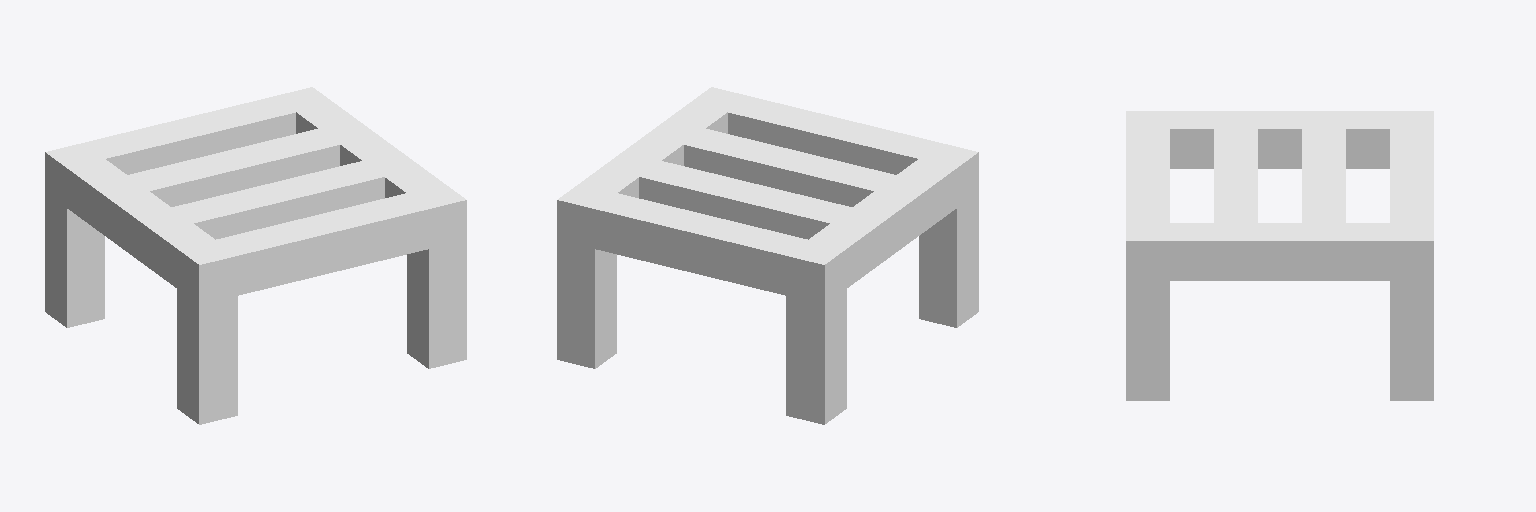
Rendered from Kitchen_cabinets-4.obj.
3 renders of one model, left to right at view 1: azimuth 30°, elevation 25°; view 2: azimuth 150°, elevation 25°; view 3: azimuth 270°, elevation 25°, orthographic.
Parts seen in each view (by area): view 1: object 1; view 2: object 1; view 3: object 1.
Part boxes in pixels (left/top/right/bottom): object 1: left=45, top=87, right=466, bottom=424; object 1: left=557, top=87, right=978, bottom=424; object 1: left=1126, top=111, right=1433, bottom=400.
Size of the model in its own units: 0.7 by 0.4 by 0.7.